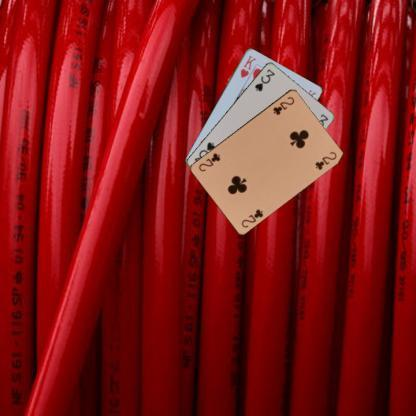2c: (238, 206, 264, 229), (270, 94, 296, 116)
3s: (252, 66, 276, 92)
Kh: (238, 52, 258, 80)
